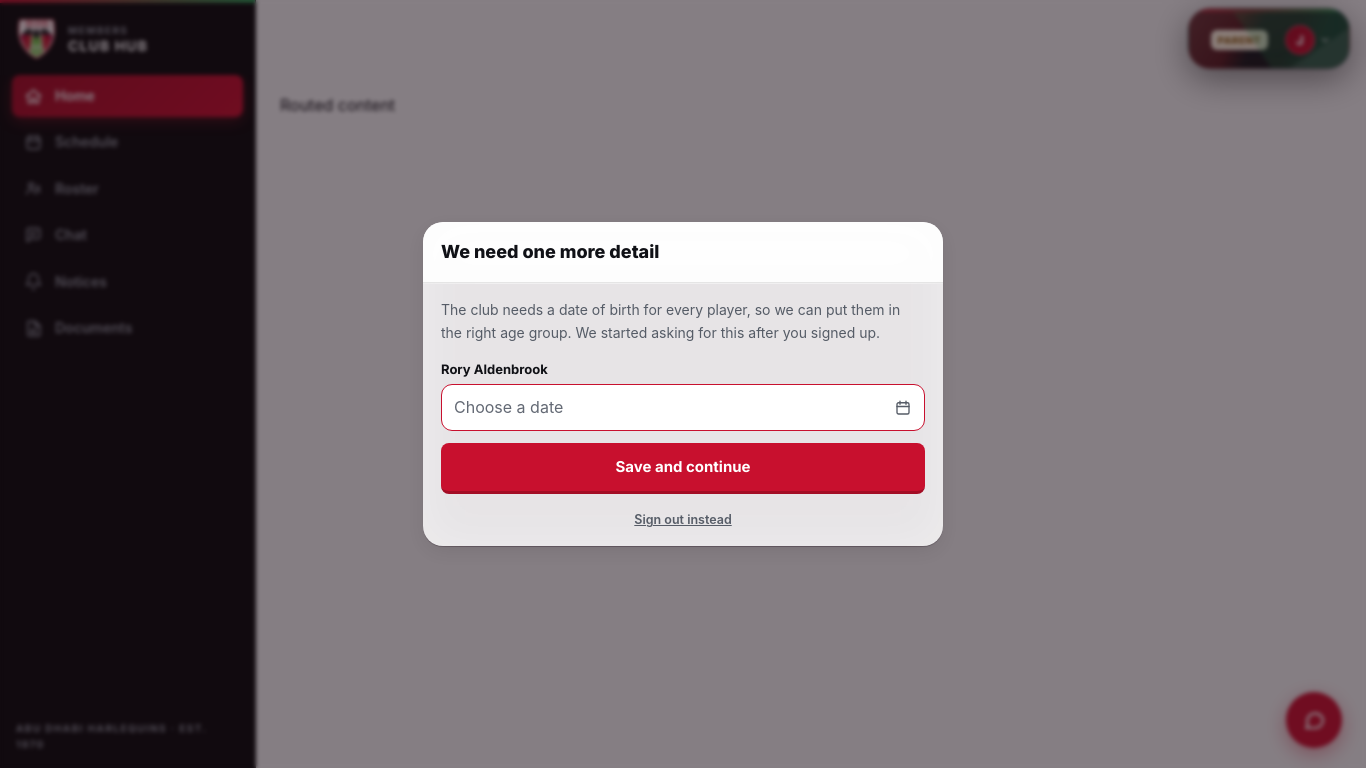
NamePrompt — the birthday step › saves the birthday and closes the gate
Check: the heading "We need one more detail" is shown, box top-left (441, 238), bottom-right (659, 266)
Click the button with test id "dob-p-1". click: (509, 407)
box: top-left (441, 384), bottom-right (925, 431)
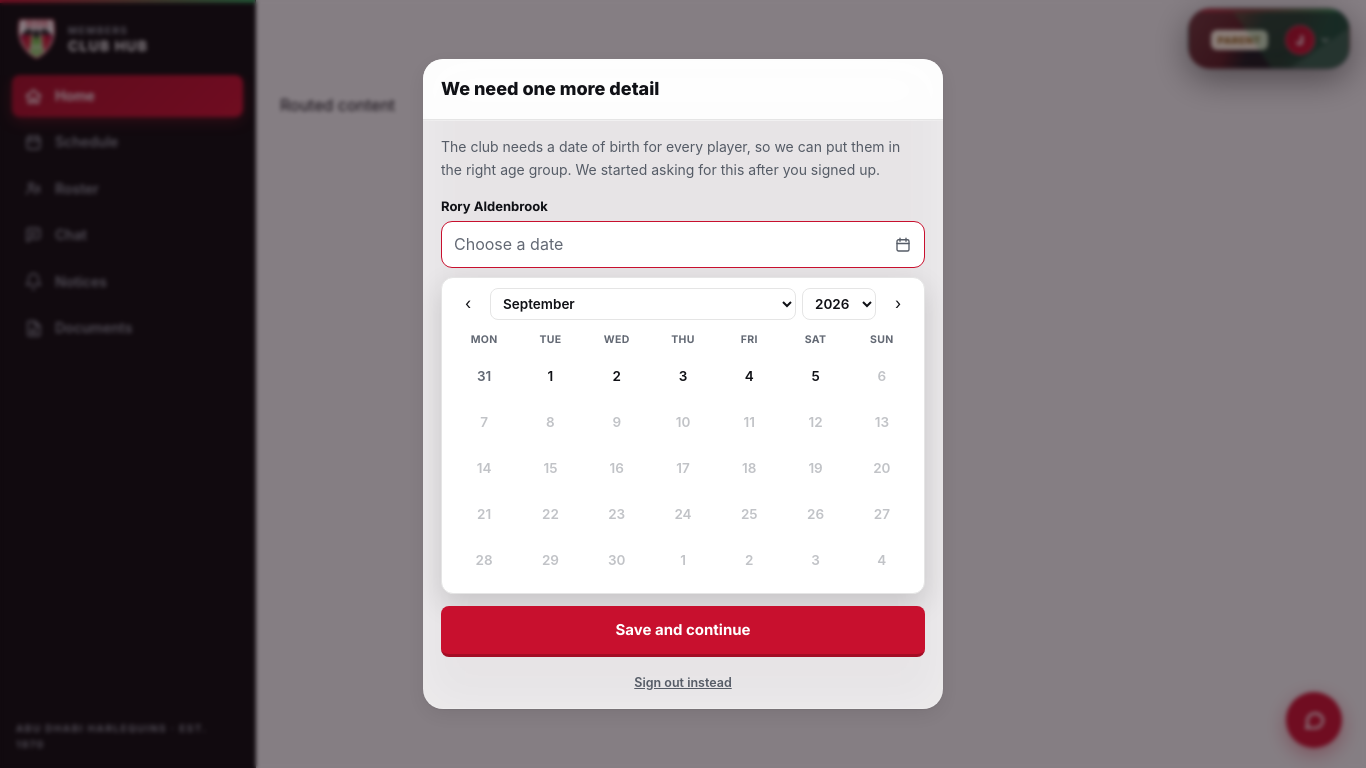
Select "2015" in the dropdown named "Year". click: (839, 304)
box: top-left (802, 288), bottom-right (876, 320)
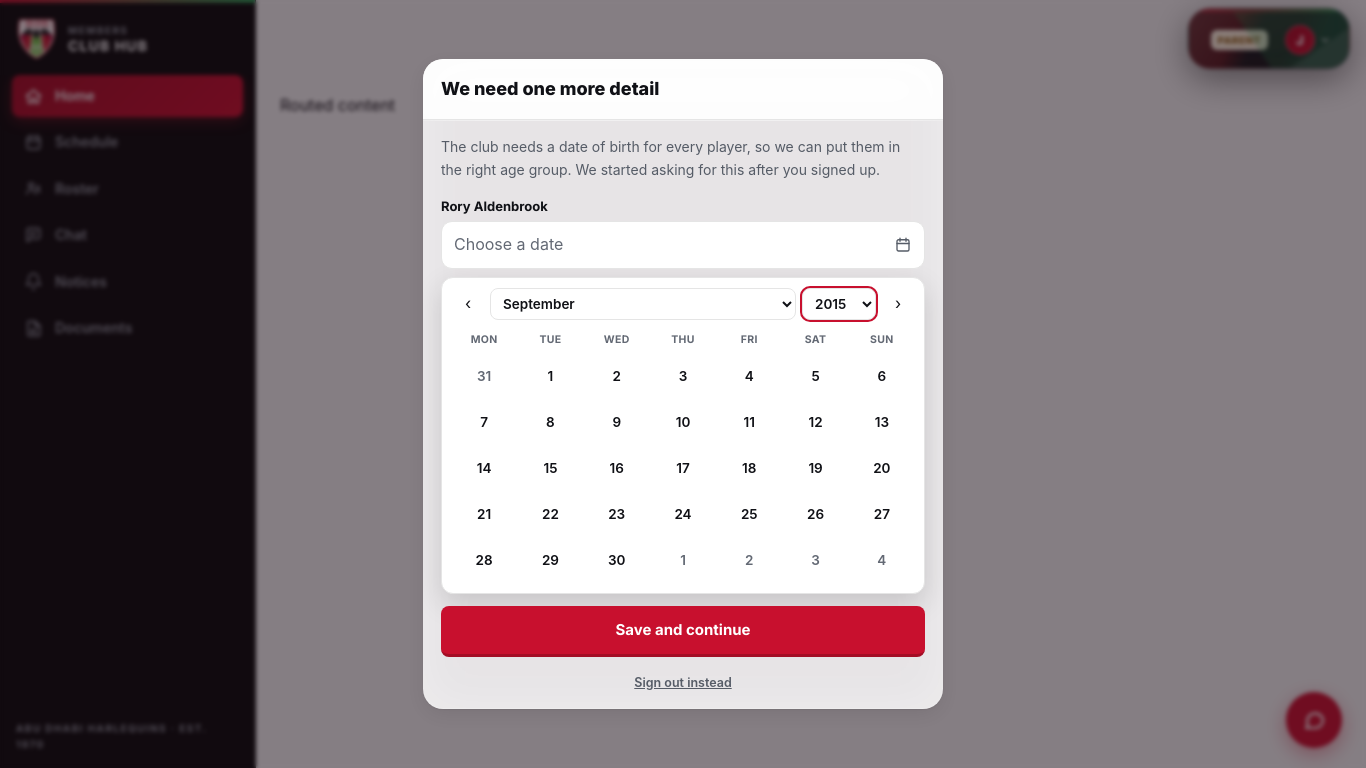
Select "March" in the dropdown named "Month". click: (643, 304)
box: top-left (490, 288), bottom-right (796, 320)
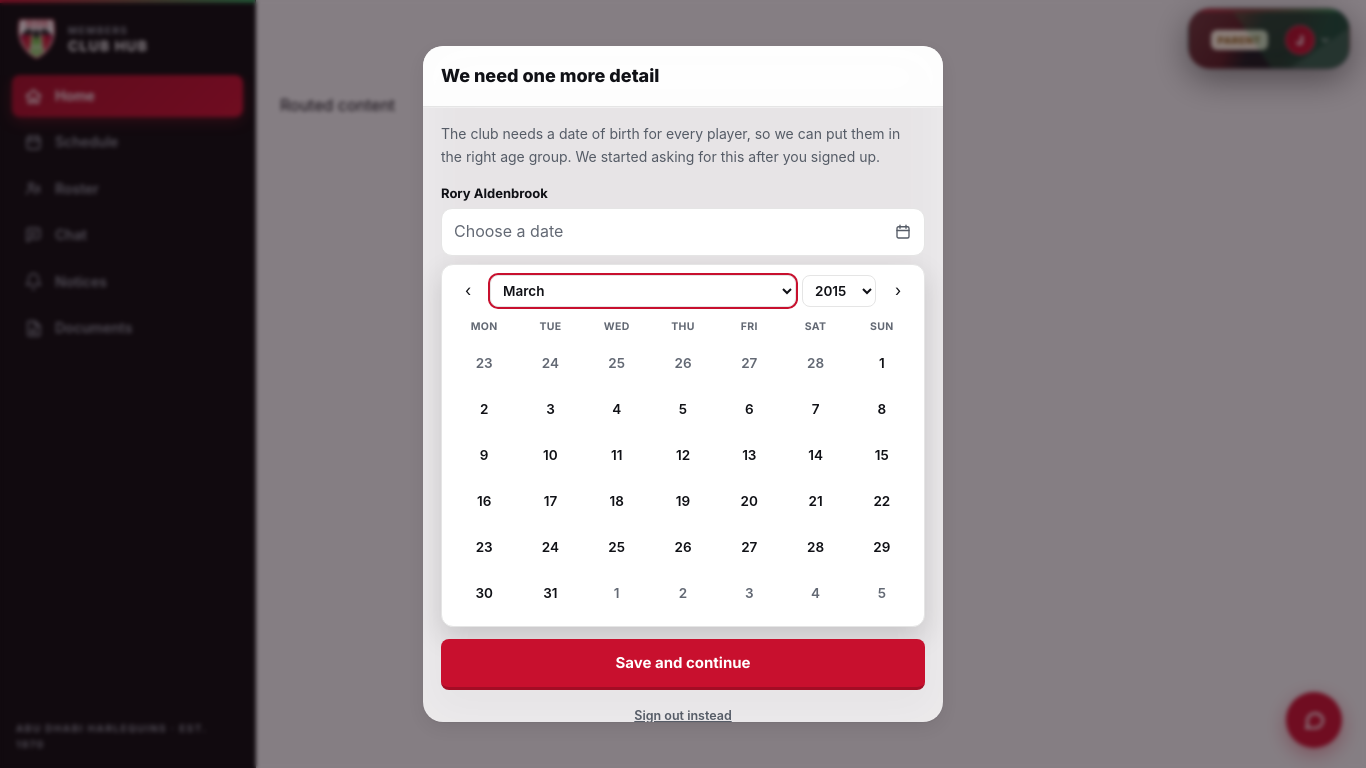
Click the 1st button "4". click: (617, 410)
box: top-left (585, 388), bottom-right (649, 432)
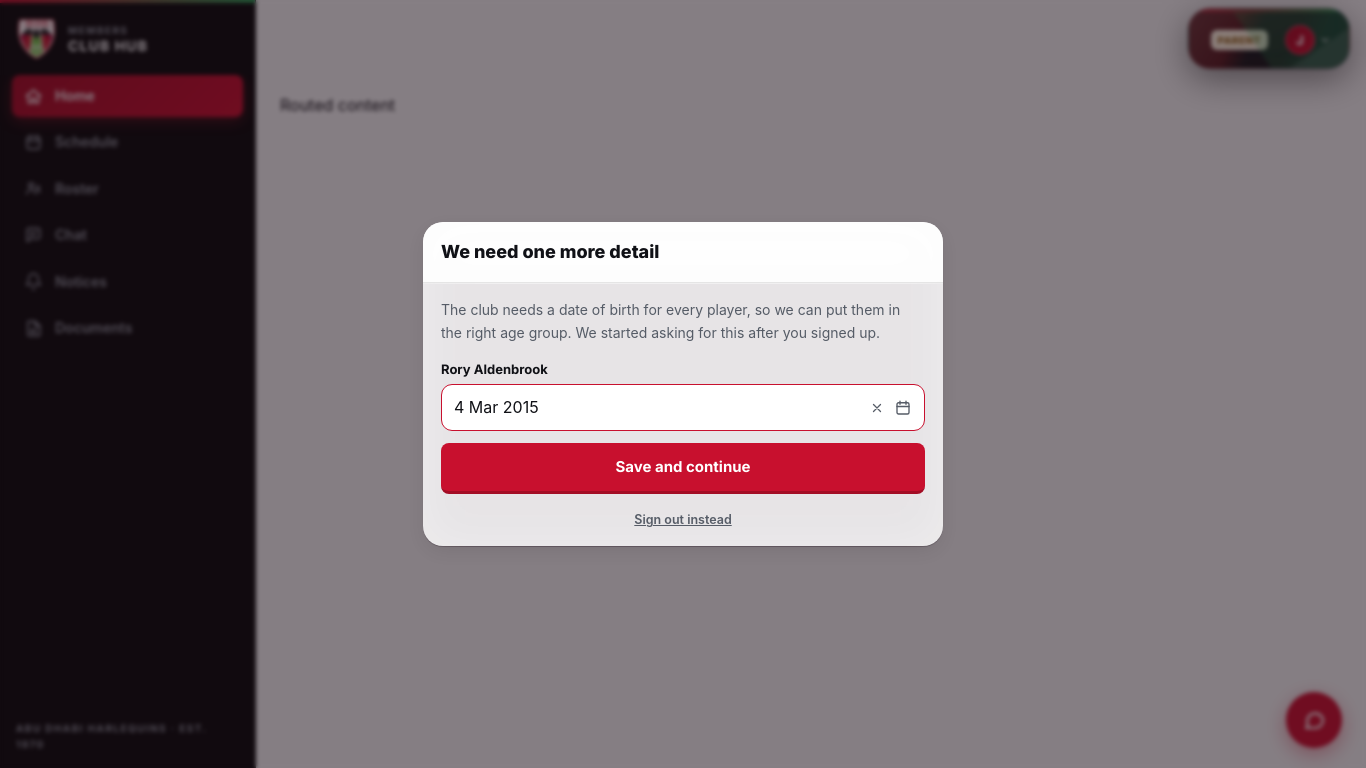
Click the button "Save and continue". click: (683, 469)
box: top-left (441, 443), bottom-right (925, 494)
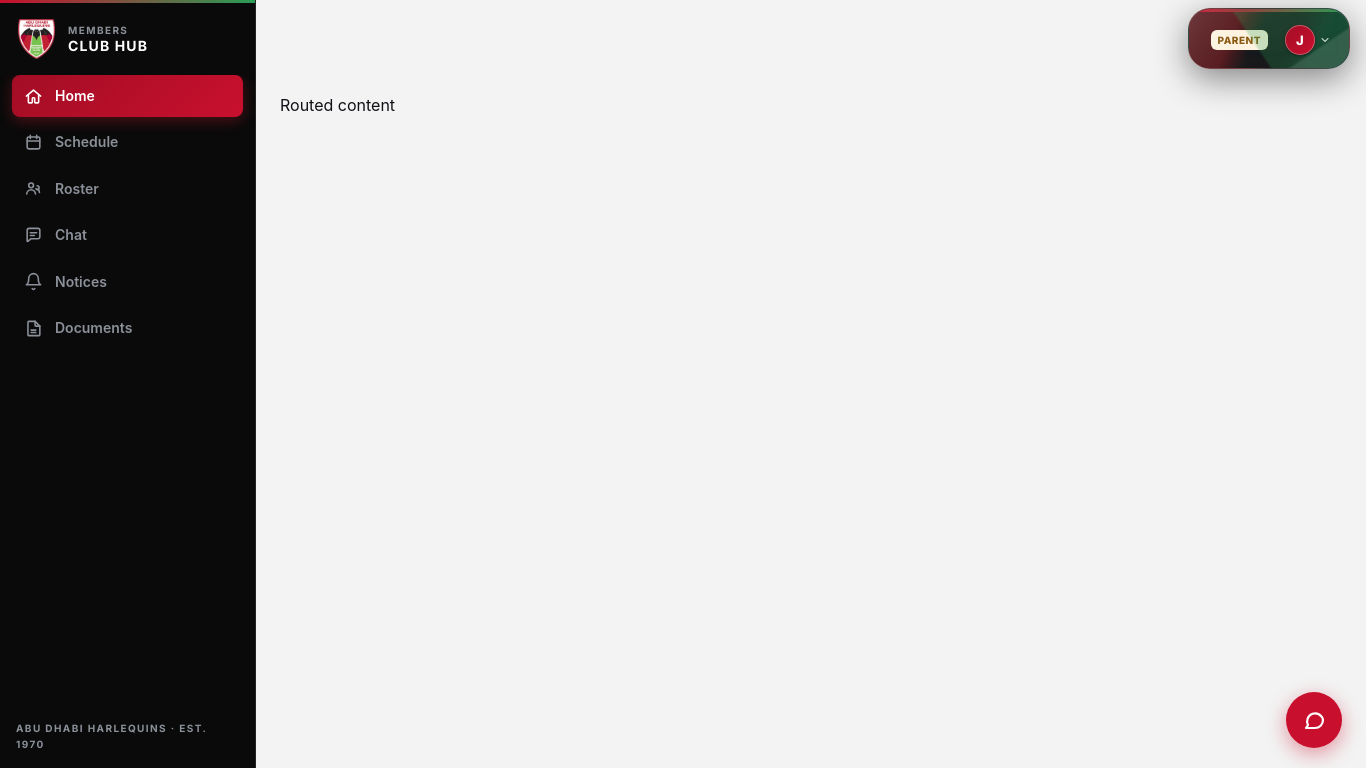
Check: the heading "We need one more detail" is gone
